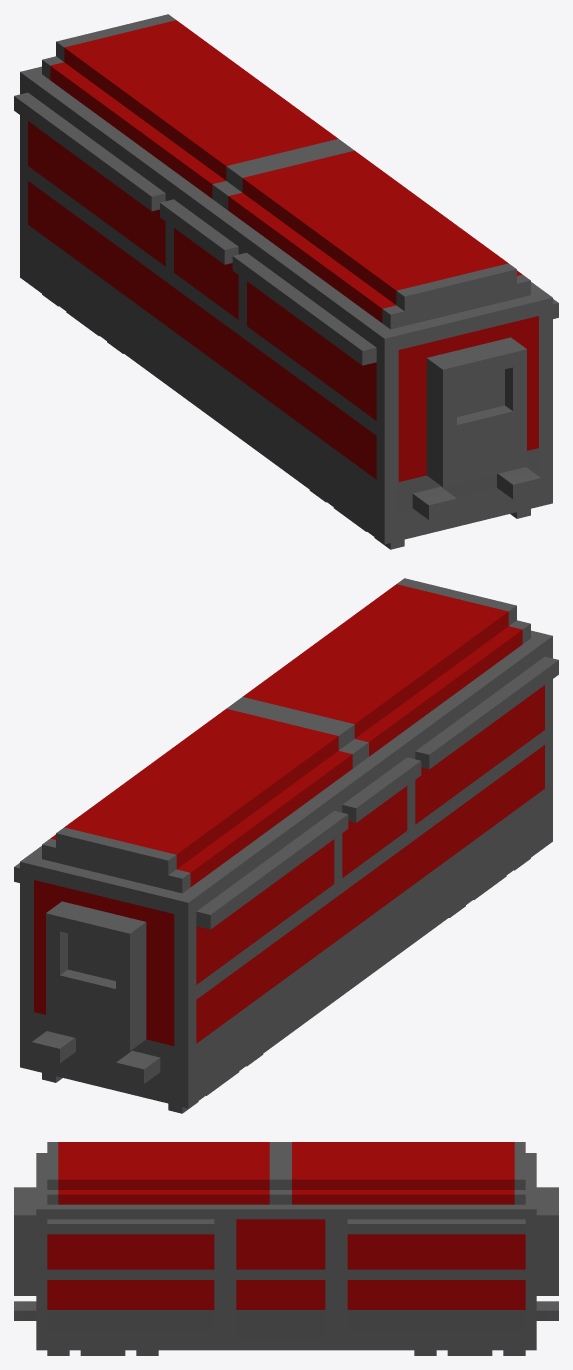
File: veh_train.obj
3 renders of one model, top to bottom at view 1: azimuth 30°, elevation 25°; view 2: azimuth 150°, elevation 25°; view 3: azimuth 270°, elevation 25°, orthographic. The views are drawn at different scales.
Size of the model in its own units: 14 by 17 by 49.
